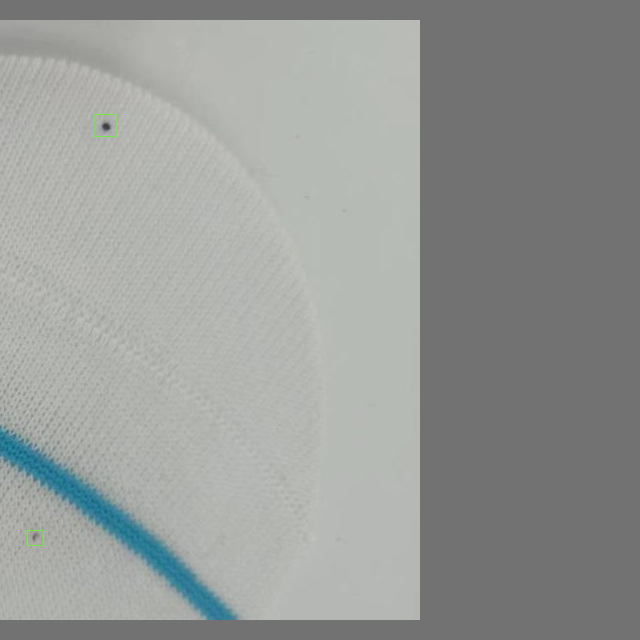dirt: (94, 114, 116, 136), (27, 530, 43, 545)
